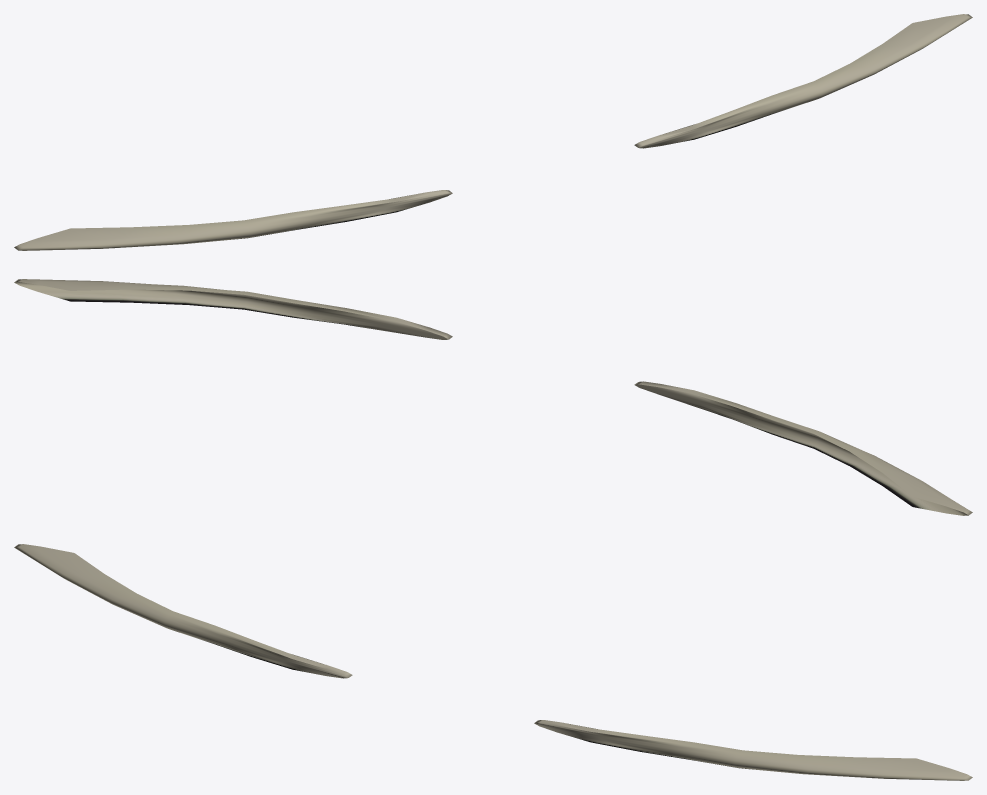
Rendered from Skeleton_Lids.fbx.
3 views of the same model, one above another, from view 1: azimuth 30°, elevation 25°; view 2: azimuth 150°, elevation 25°; view 3: azimuth 330°, elevation 25° (orthographic).
Parts seen in each view (by area): view 1: Skeleton_Lids; view 2: Skeleton_Lids; view 3: Skeleton_Lids.
Boxes of the visible parts, box(x1,y1,x2,y2) form: Skeleton_Lids: box(14, 14, 972, 250); Skeleton_Lids: box(14, 279, 972, 515); Skeleton_Lids: box(14, 544, 972, 780).
Bounding box in the file's own units: 0.268 × 0.004 × 0.0264.
Materials: 1 (1 with a texture image).
